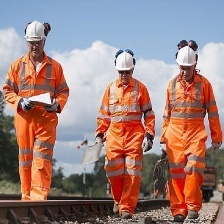helmet: (24, 20, 47, 48), (175, 46, 199, 72), (113, 52, 137, 77)
person: (6, 20, 66, 202), (164, 43, 223, 220), (96, 51, 156, 217)
vest: (14, 53, 56, 147), (167, 76, 211, 162), (106, 80, 145, 166)
